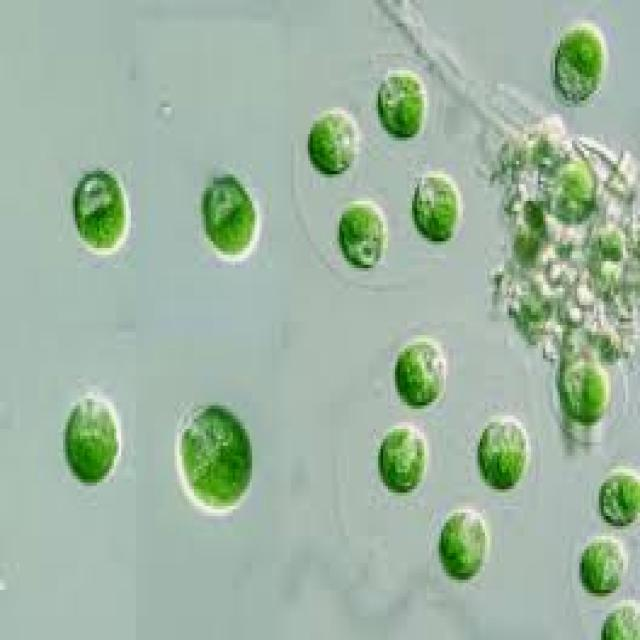Green Algae: (172, 399, 255, 519), (56, 389, 126, 489), (199, 168, 259, 262), (70, 164, 131, 251), (404, 164, 460, 251), (550, 20, 608, 104), (473, 419, 533, 496), (376, 60, 429, 144), (395, 335, 451, 412), (334, 198, 386, 278), (439, 506, 487, 586), (562, 352, 611, 429), (376, 425, 426, 496), (308, 107, 359, 174), (579, 536, 628, 597), (596, 466, 640, 533)
